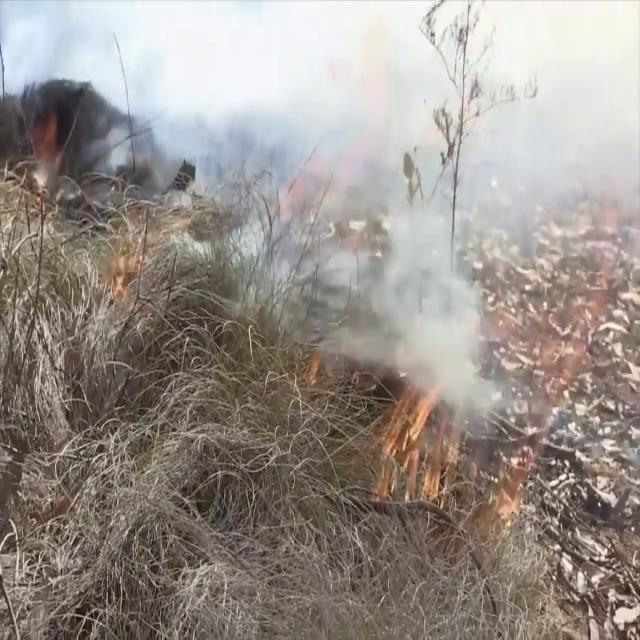Fire: (374, 384, 460, 499)
Smoke: (121, 0, 639, 448)
